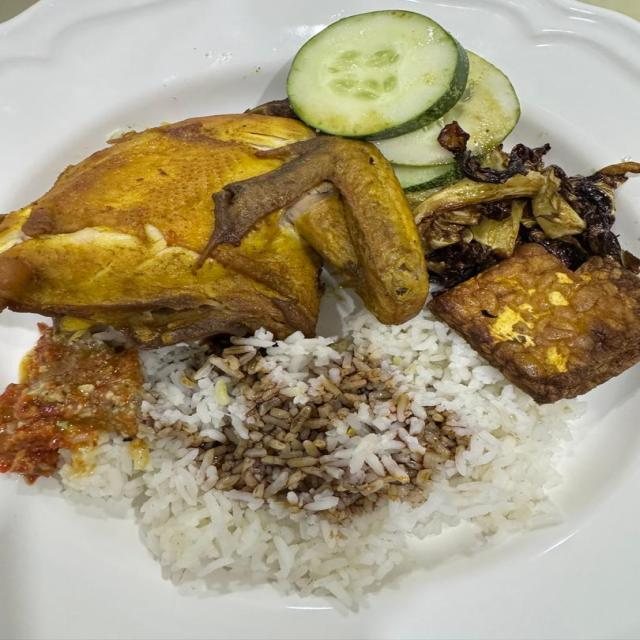Chicken: (0, 112, 436, 348)
Rice: (25, 298, 576, 617)
Vegetables: (267, 7, 639, 413)
